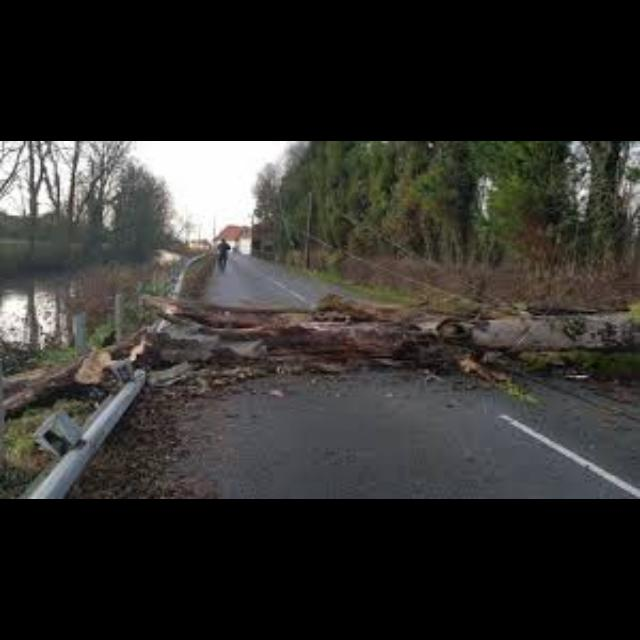Fallen Tree: (119, 294, 639, 388)
